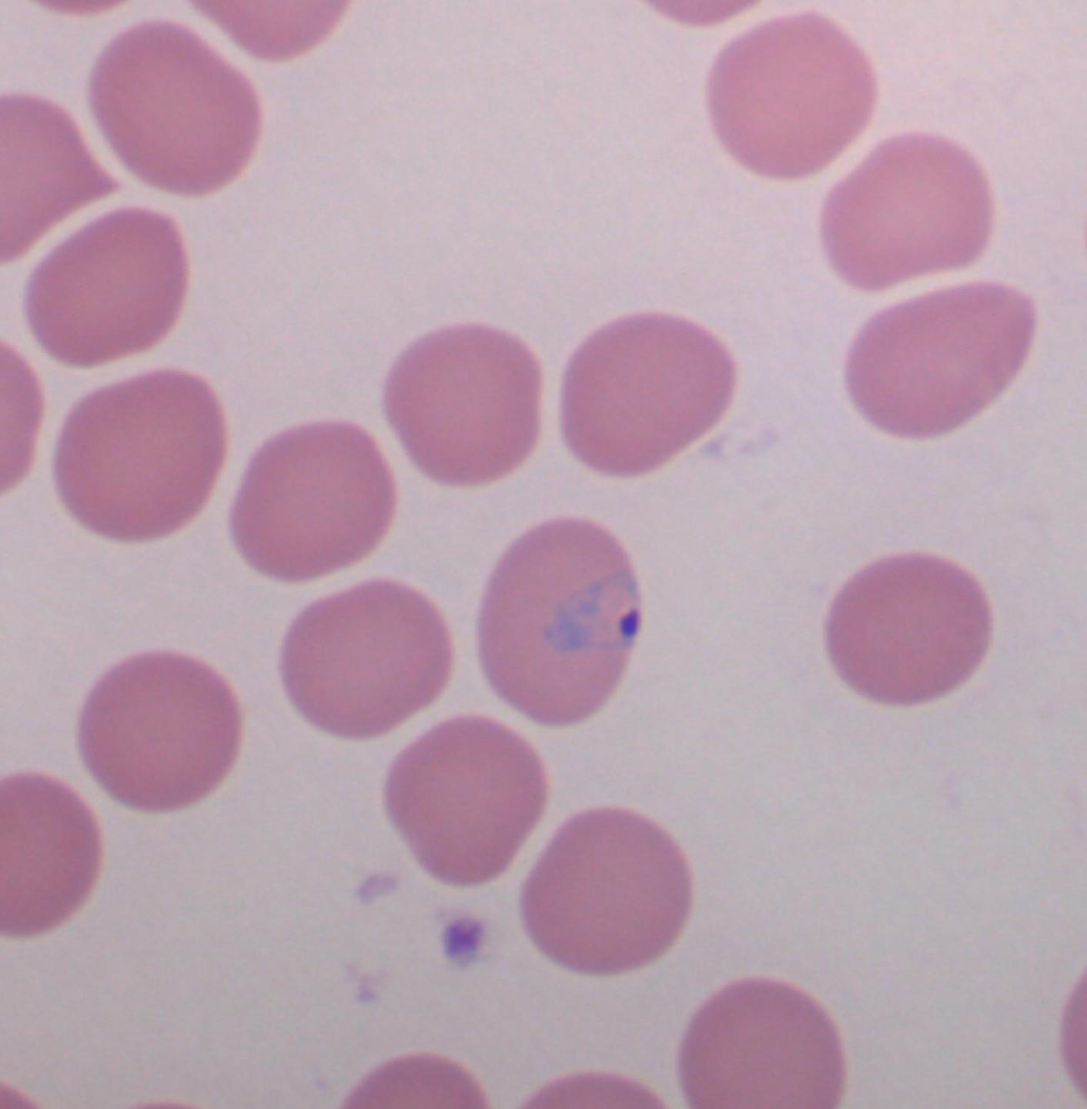Infected: (446, 383, 607, 590)
Uninfected: (52, 670, 244, 825), (393, 133, 566, 299), (861, 569, 1029, 739), (212, 930, 382, 1094), (353, 630, 524, 793), (541, 224, 703, 392), (691, 527, 857, 690), (830, 917, 993, 1080), (637, 371, 806, 527), (92, 819, 261, 974), (95, 404, 265, 556), (847, 298, 1007, 454), (545, 624, 701, 783), (898, 746, 1055, 900), (246, 0, 410, 129), (987, 170, 1082, 328)
